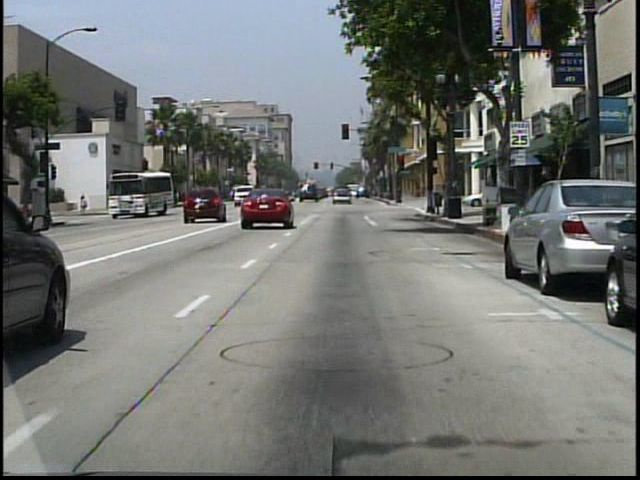person: (80, 194, 89, 215)
